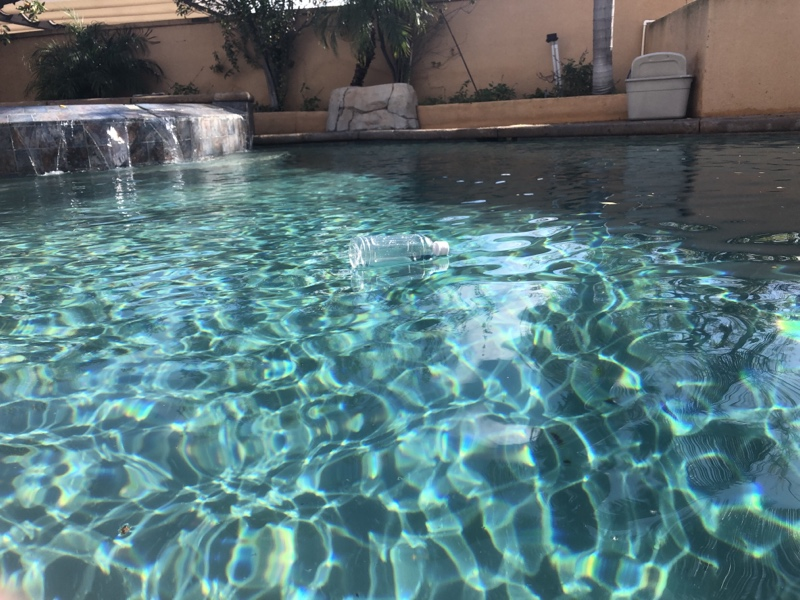Plastic Bottle: (346, 228, 451, 273)
